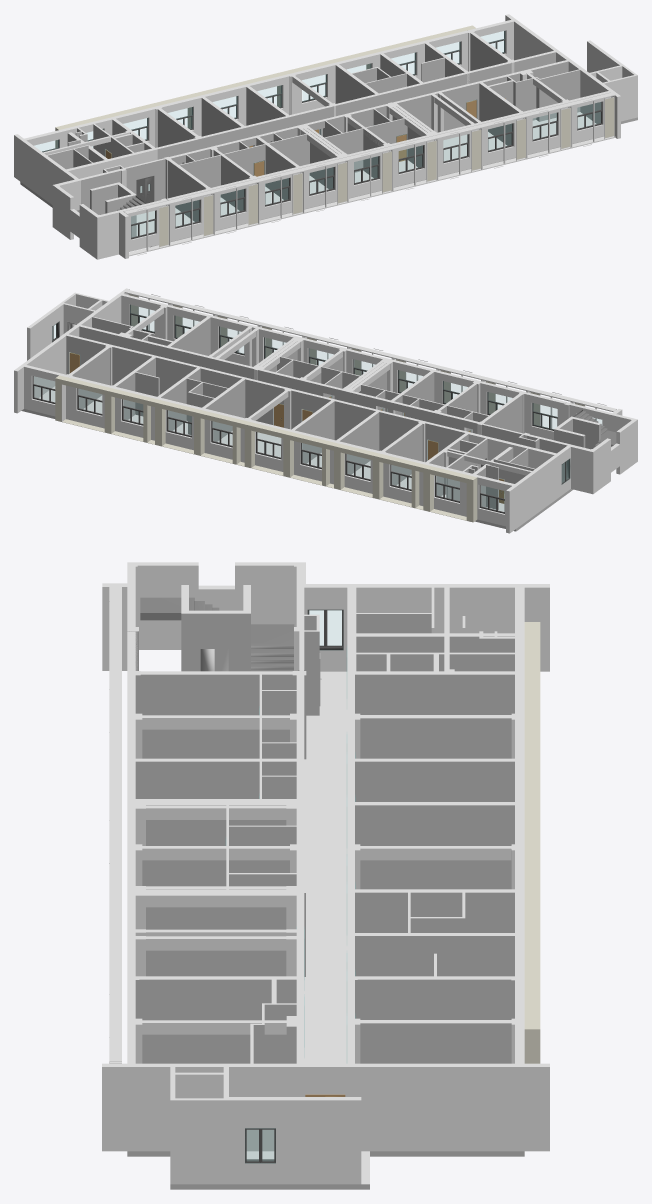
The picture shows the model from 3 angles, top to bottom: view 1: azimuth 30°, elevation 25°; view 2: azimuth 150°, elevation 25°; view 3: azimuth 270°, elevation 25°; orthographic projection. The views are drawn at different scales.
Visible parts, largest first — view 1: 矩形钢管_杆件_30x30x5__2254475__1; view 2: 矩形钢管_杆件_30x30x5__2254475__1; view 3: 矩形钢管_杆件_30x30x5__2254475__1.
Boxes of the visible parts, x1=… form: 矩形钢管_杆件_30x30x5__2254475__1: x1=14, y1=14, x2=637, y2=259; 矩形钢管_杆件_30x30x5__2254475__1: x1=14, y1=288, x2=637, y2=533; 矩形钢管_杆件_30x30x5__2254475__1: x1=102, y1=562, x2=549, y2=1189.
Bounding box in the file's own units: 49440 × 4020 × 17380.
